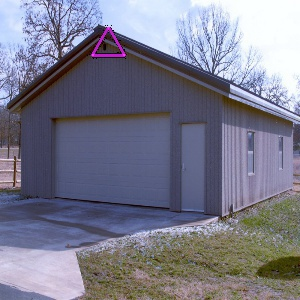triangle: (89, 23, 128, 62)
